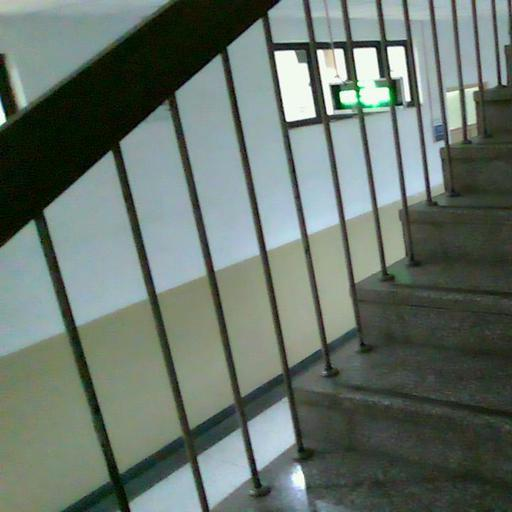Stairs: (218, 136, 512, 512)
